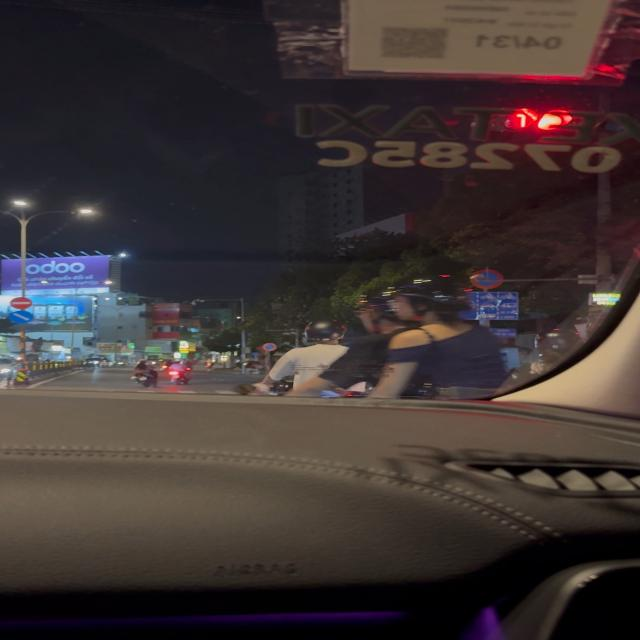Bien bao cam do xe: (469, 269, 509, 290), (261, 341, 280, 351)
